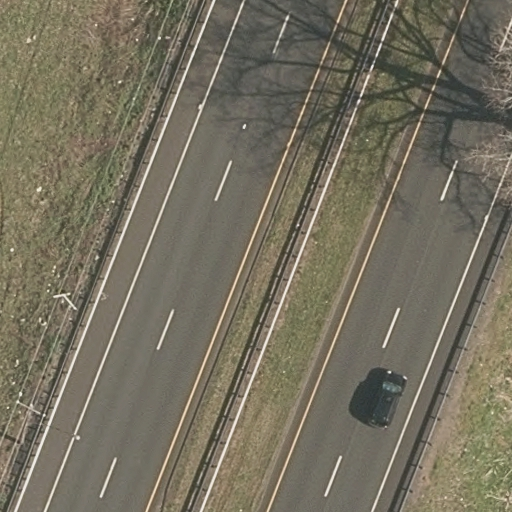DT: (8, 384, 57, 448)
